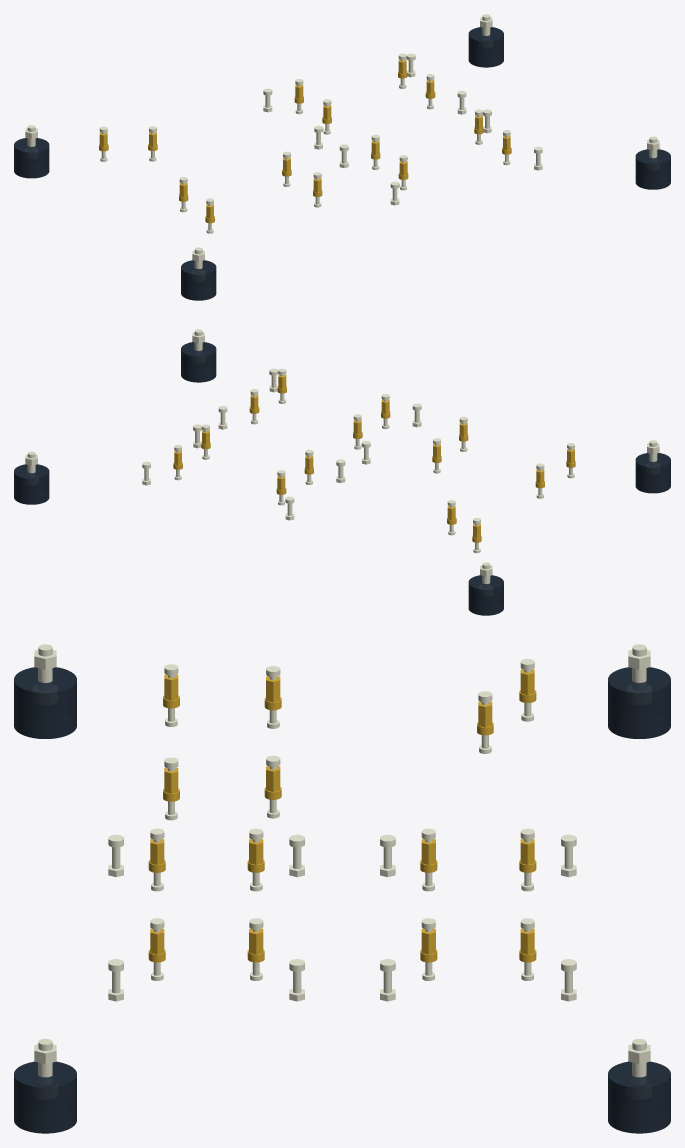
File: HR30_E1_fixture_hardware_candidate.glb
The picture shows the model from 3 angles, top to bottom: view 1: azimuth 30°, elevation 25°; view 2: azimuth 150°, elevation 25°; view 3: azimuth 270°, elevation 25°; orthographic projection. The views are drawn at different scales.
Visible parts, largest first — view 1: FOOT_RISER_AND_SJ5309_01, FOOT_RISER_AND_SJ5309_02, FOOT_RISER_AND_SJ5309_03, FOOT_RISER_AND_SJ5309_04; view 2: FOOT_RISER_AND_SJ5309_02, FOOT_RISER_AND_SJ5309_01, FOOT_RISER_AND_SJ5309_03, FOOT_RISER_AND_SJ5309_04; view 3: FOOT_RISER_AND_SJ5309_03, FOOT_RISER_AND_SJ5309_04, FOOT_RISER_AND_SJ5309_01, FOOT_RISER_AND_SJ5309_02, FOOT_M5_SCREW_AND_NUT_01, FOOT_M5_SCREW_AND_NUT_02, FOOT_M5_SCREW_AND_NUT_03, FOOT_M5_SCREW_AND_NUT_04.
Boxes of the visible parts, x1=… form: FOOT_RISER_AND_SJ5309_01: x1=181, y1=260, x2=216, y2=300; FOOT_RISER_AND_SJ5309_02: x1=14, y1=138, x2=49, y2=178; FOOT_RISER_AND_SJ5309_03: x1=635, y1=149, x2=670, y2=189; FOOT_RISER_AND_SJ5309_04: x1=468, y1=27, x2=503, y2=67; FOOT_RISER_AND_SJ5309_02: x1=468, y1=575, x2=503, y2=615; FOOT_RISER_AND_SJ5309_01: x1=635, y1=453, x2=670, y2=493; FOOT_RISER_AND_SJ5309_03: x1=181, y1=342, x2=216, y2=382; FOOT_RISER_AND_SJ5309_04: x1=14, y1=464, x2=49, y2=504; FOOT_RISER_AND_SJ5309_03: x1=14, y1=1061, x2=76, y2=1133; FOOT_RISER_AND_SJ5309_04: x1=608, y1=1061, x2=670, y2=1133; FOOT_RISER_AND_SJ5309_01: x1=14, y1=667, x2=76, y2=738; FOOT_RISER_AND_SJ5309_02: x1=608, y1=667, x2=670, y2=738; FOOT_M5_SCREW_AND_NUT_01: x1=34, y1=644, x2=56, y2=682; FOOT_M5_SCREW_AND_NUT_02: x1=628, y1=644, x2=650, y2=682; FOOT_M5_SCREW_AND_NUT_03: x1=34, y1=1039, x2=56, y2=1077; FOOT_M5_SCREW_AND_NUT_04: x1=628, y1=1039, x2=650, y2=1077.
Bounding box in the file's own units: 352 × 38.7 × 232.
